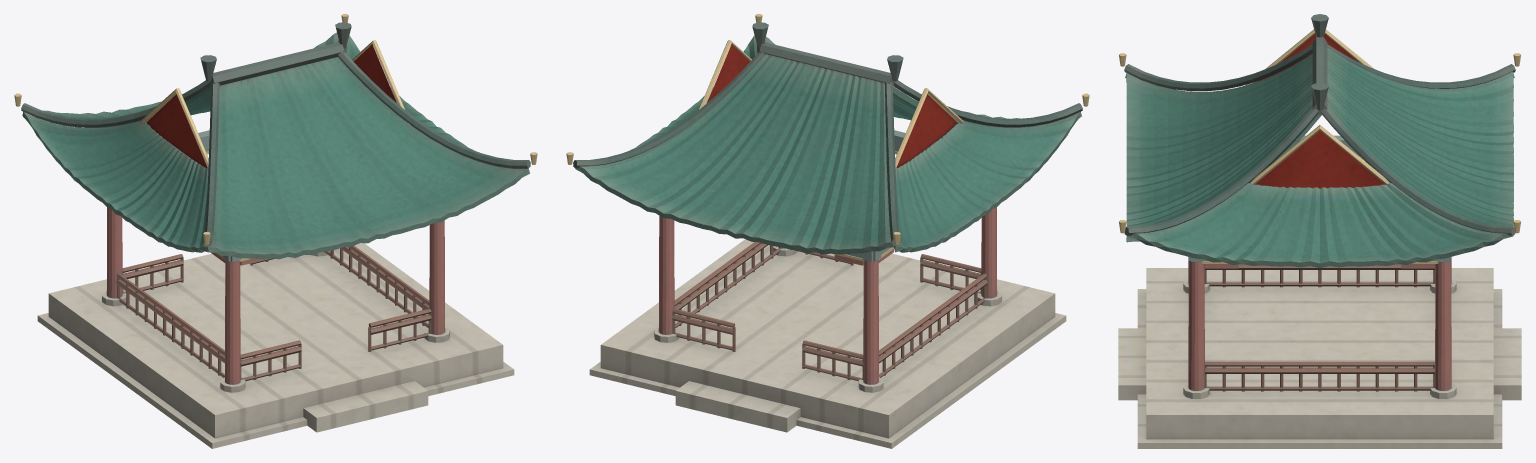
Rendered from pavilion_xieshan.glb.
3 views of the same model, side by side, from view 1: azimuth 30°, elevation 25°; view 2: azimuth 150°, elevation 25°; view 3: azimuth 270°, elevation 25° (orthographic). The views are drawn at different scales.
Parts seen in each view (by area): view 1: pavilion_xieshan; view 2: pavilion_xieshan; view 3: pavilion_xieshan.
Boxes of the visible parts, left/top/right/bottom form: pavilion_xieshan: left=14, top=14, right=537, bottom=448; pavilion_xieshan: left=566, top=14, right=1089, bottom=448; pavilion_xieshan: left=1118, top=14, right=1521, bottom=448.
Size of the model in its own units: 7.16 by 6.3 by 7.2.
Materials: 1 (1 with a texture image).
